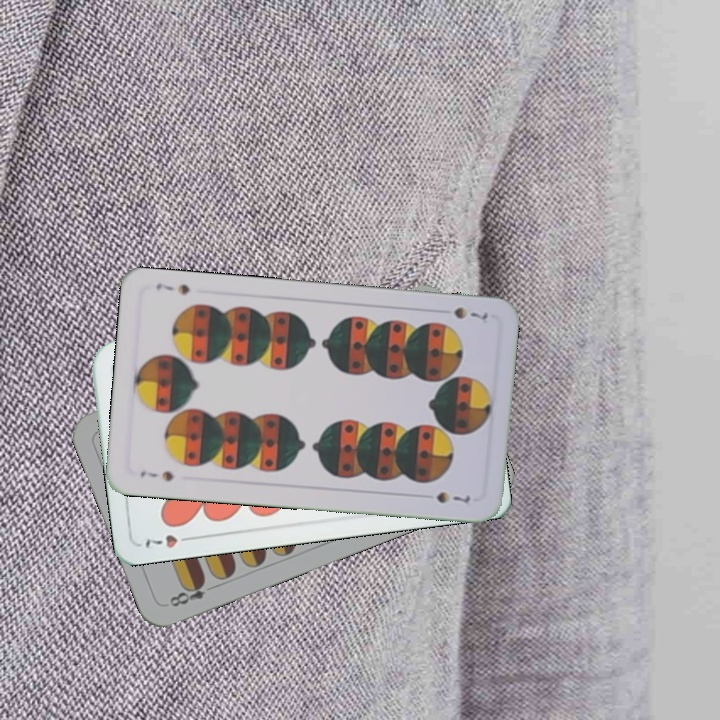E8: (165, 575, 220, 610)
H7: (141, 531, 197, 551)
S7: (449, 303, 490, 323), (136, 467, 176, 484)
